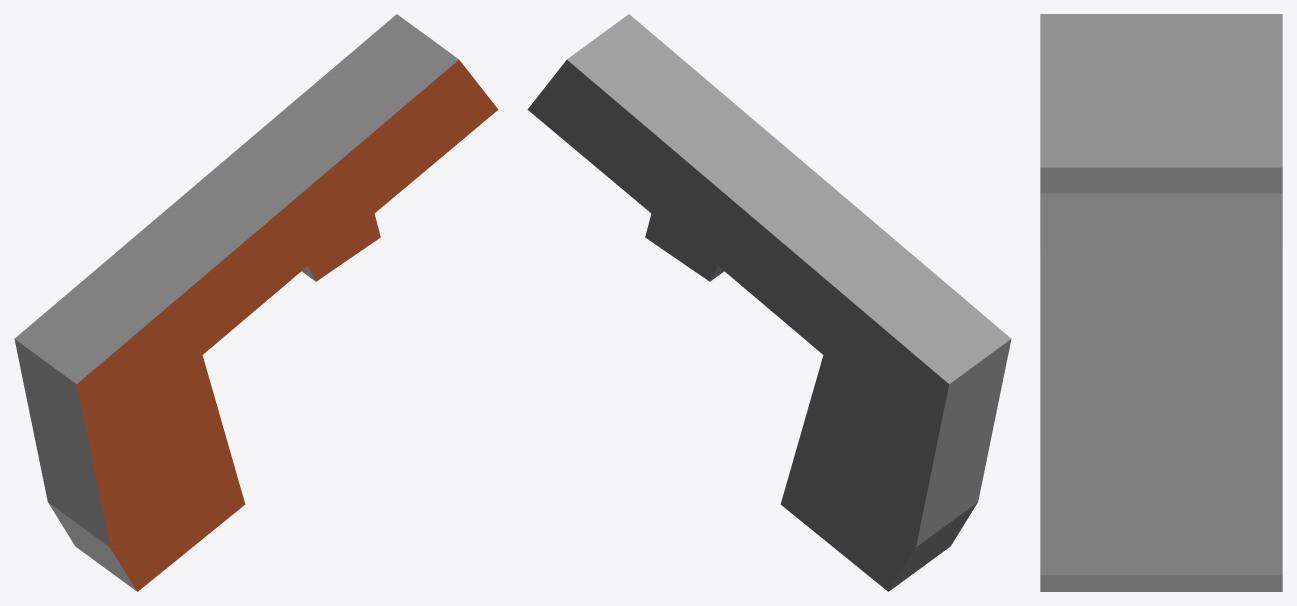
Rendered from construction_0527_assumed_A_Casa_h6m.obj.
3 views of the same model, side by side, from view 1: azimuth 30°, elevation 25°; view 2: azimuth 150°, elevation 25°; view 3: azimuth 270°, elevation 25° (orthographic). The views are drawn at different scales.
Parts seen in each view (by area): view 1: construction_0527_assumed_A_Casa; view 2: construction_0527_assumed_A_Casa; view 3: construction_0527_assumed_A_Casa.
Boxes of the visible parts, left/top/right/bottom form: construction_0527_assumed_A_Casa: left=14, top=14, right=498, bottom=591; construction_0527_assumed_A_Casa: left=527, top=14, right=1011, bottom=591; construction_0527_assumed_A_Casa: left=1040, top=14, right=1282, bottom=591.
Bounding box in the file's own units: 23.48 × 24.15 × 6.
